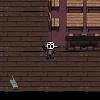Hide: (63, 32, 100, 51)
Jason: (40, 40, 57, 59)
Obstacle: (44, 12, 64, 32), (64, 12, 83, 32), (83, 12, 100, 31), (64, 0, 83, 13), (44, 0, 64, 12), (83, 0, 100, 13)
Win: (2, 70, 24, 92)
